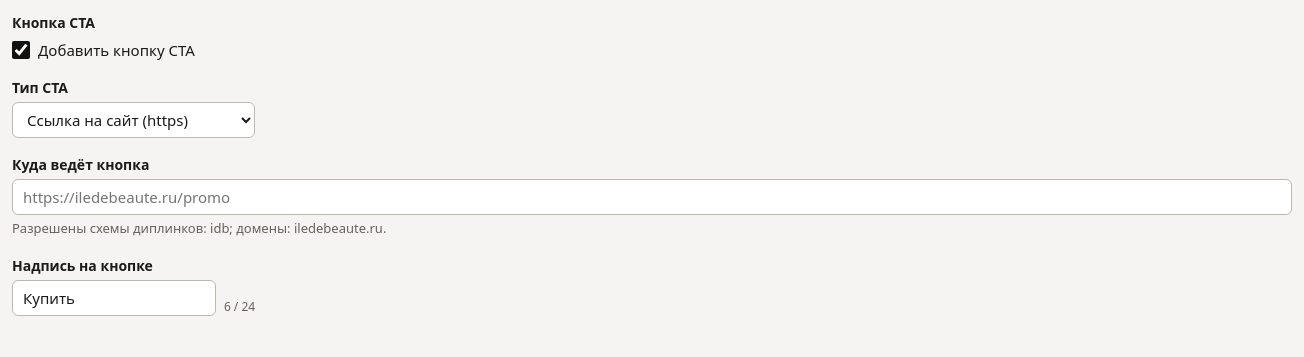
CTA: проверка по allowlist › https://iledebeaute.ru@evil.com/ — ошибка
The width and height of the screenshot is (1304, 357).
Type "https://iledebeaute.ru@evil.com/" into the field labelled "Куда ведёт кнопка" at (652, 197), box [12,179,1292,215]
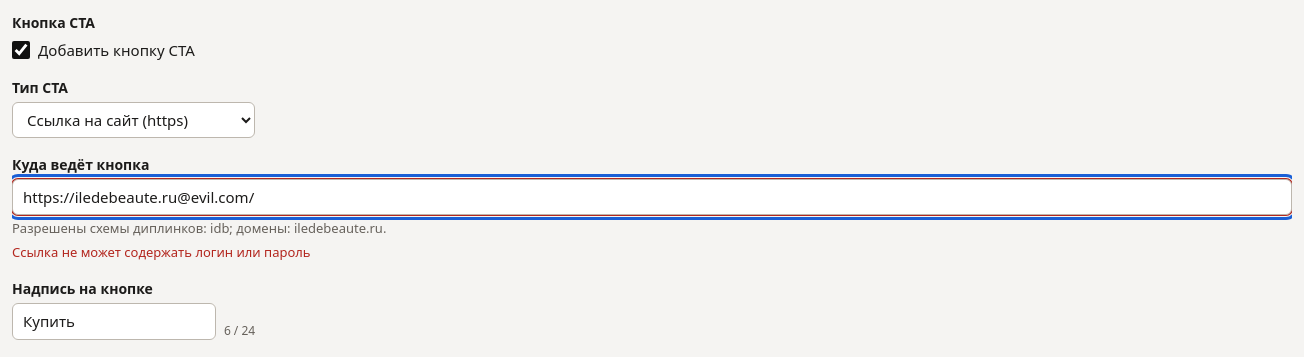
Expected: the message reads "Ссылка не может содержать логин или пароль", [12,243,310,261]
